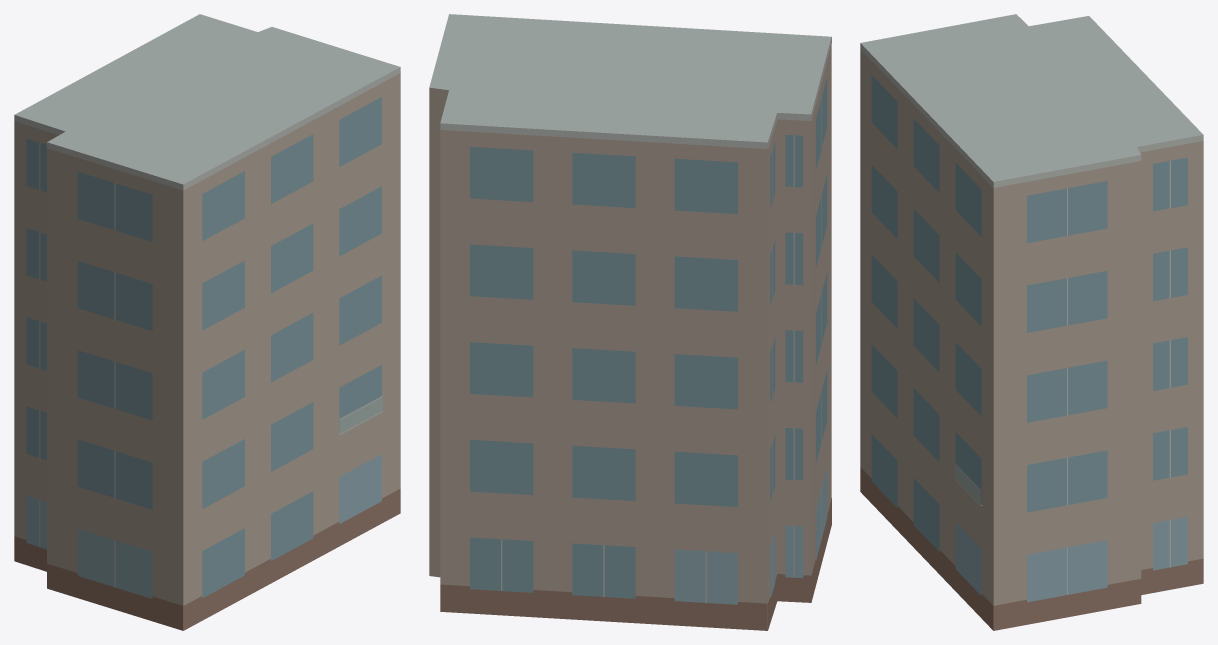
The model's file is survey-upis-32770704.glb.
3 views of the same model, side by side, from view 1: azimuth 30°, elevation 25°; view 2: azimuth 150°, elevation 25°; view 3: azimuth 270°, elevation 25° (orthographic). The views are drawn at different scales.
Visible parts, largest first — view 1: survey-upis-32770704.tmp; view 2: survey-upis-32770704.tmp; view 3: survey-upis-32770704.tmp.
Part boxes in pixels (left/top/right/bottom): survey-upis-32770704.tmp: left=14, top=14, right=400, bottom=630; survey-upis-32770704.tmp: left=429, top=14, right=831, bottom=630; survey-upis-32770704.tmp: left=860, top=14, right=1203, bottom=630.
Bounding box in the file's own units: 14.57 × 18.14 × 12.58.
